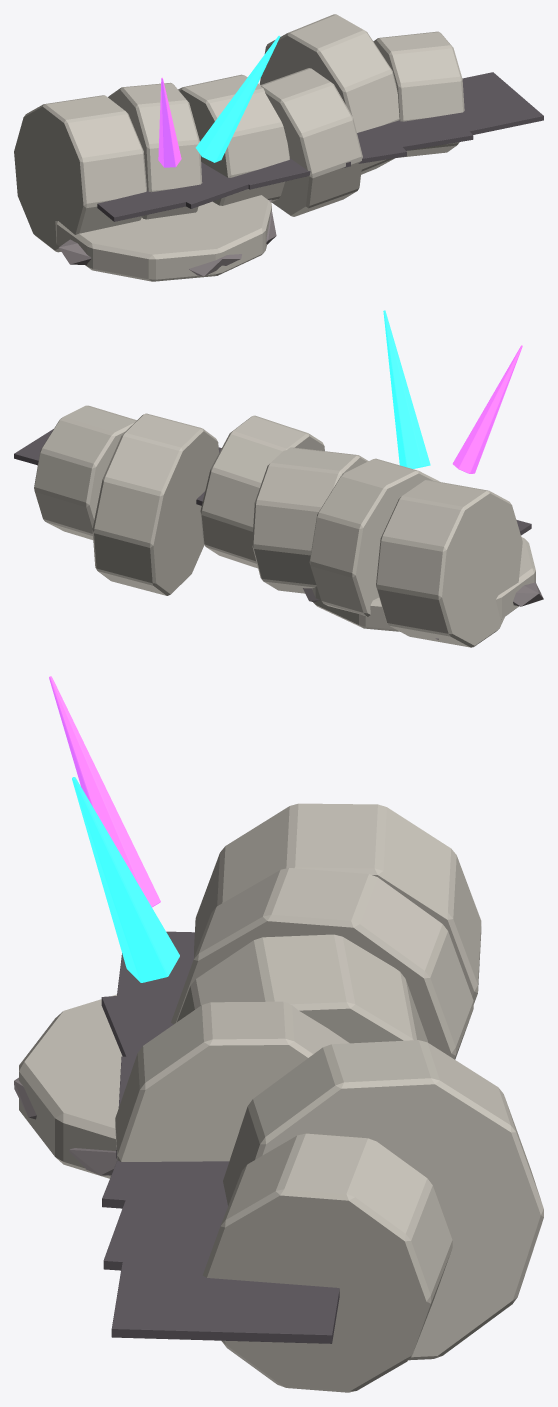
Rendered from runtime.glb.
3 views of the same model, one above another, from view 1: azimuth 30°, elevation 25°; view 2: azimuth 150°, elevation 25°; view 3: azimuth 270°, elevation 25° (orthographic). The views are drawn at different scales.
Visible parts, largest first — view 1: crystal-ruins-damaged-column-v09_fallen_00_nocol, crystal-ruins-damaged-column-v09_base_nocol, crystal-ruins-damaged-column-v09_fallen_03_nocol, crystal-ruins-damaged-column-v09_fallen_04_nocol, crystal-ruins-damaged-column-v09_fallen_02_nocol, crystal-ruins-damaged-column-v09_fallen_05_nocol, crystal-ruins-damaged-column-v09_fallen_01_nocol, crystal-ruins-damaged-column-v09_fracture_05_nocol, crystal-ruins-damaged-column-v09_crystal_00_nocol, crystal-ruins-damaged-column-v09_fracture_04_nocol, crystal-ruins-damaged-column-v09_fracture_00_nocol, crystal-ruins-damaged-column-v09_fracture_01_nocol (+5 smaller); view 2: crystal-ruins-damaged-column-v09_fallen_00_nocol, crystal-ruins-damaged-column-v09_fallen_04_nocol, crystal-ruins-damaged-column-v09_fallen_01_nocol, crystal-ruins-damaged-column-v09_fallen_02_nocol, crystal-ruins-damaged-column-v09_fallen_03_nocol, crystal-ruins-damaged-column-v09_fallen_05_nocol, crystal-ruins-damaged-column-v09_crystal_00_nocol, crystal-ruins-damaged-column-v09_base_nocol, crystal-ruins-damaged-column-v09_crystal_01_nocol, crystal-ruins-damaged-column-v09_fracture_05_nocol, crystal-ruins-damaged-column-v09_deposit_04_nocol; view 3: crystal-ruins-damaged-column-v09_fallen_05_nocol, crystal-ruins-damaged-column-v09_fallen_04_nocol, crystal-ruins-damaged-column-v09_fallen_03_nocol, crystal-ruins-damaged-column-v09_fallen_01_nocol, crystal-ruins-damaged-column-v09_fallen_00_nocol, crystal-ruins-damaged-column-v09_fallen_02_nocol, crystal-ruins-damaged-column-v09_fracture_05_nocol, crystal-ruins-damaged-column-v09_base_nocol, crystal-ruins-damaged-column-v09_fracture_04_nocol, crystal-ruins-damaged-column-v09_crystal_00_nocol, crystal-ruins-damaged-column-v09_fracture_00_nocol, crystal-ruins-damaged-column-v09_crystal_01_nocol (+3 smaller).
Part boxes in pixels (bbox=[...]): crystal-ruins-damaged-column-v09_fallen_00_nocol: bbox=[14, 95, 146, 252]; crystal-ruins-damaged-column-v09_base_nocol: bbox=[55, 195, 271, 281]; crystal-ruins-damaged-column-v09_fallen_03_nocol: bbox=[260, 68, 362, 216]; crystal-ruins-damaged-column-v09_fallen_04_nocol: bbox=[259, 14, 399, 174]; crystal-ruins-damaged-column-v09_fallen_02_nocol: bbox=[178, 74, 289, 205]; crystal-ruins-damaged-column-v09_fallen_05_nocol: bbox=[373, 31, 464, 157]; crystal-ruins-damaged-column-v09_fallen_01_nocol: bbox=[108, 82, 202, 219]; crystal-ruins-damaged-column-v09_fracture_05_nocol: bbox=[420, 72, 543, 137]; crystal-ruins-damaged-column-v09_crystal_00_nocol: bbox=[195, 35, 280, 162]; crystal-ruins-damaged-column-v09_fracture_04_nocol: bbox=[357, 119, 473, 152]; crystal-ruins-damaged-column-v09_fracture_00_nocol: bbox=[97, 185, 197, 221]; crystal-ruins-damaged-column-v09_fracture_01_nocol: bbox=[164, 162, 248, 208]; crystal-ruins-damaged-column-v09_fallen_00_nocol: bbox=[376, 480, 522, 647]; crystal-ruins-damaged-column-v09_fallen_04_nocol: bbox=[92, 413, 218, 595]; crystal-ruins-damaged-column-v09_fallen_01_nocol: bbox=[309, 458, 439, 616]; crystal-ruins-damaged-column-v09_fallen_02_nocol: bbox=[252, 447, 368, 593]; crystal-ruins-damaged-column-v09_fallen_03_nocol: bbox=[200, 415, 324, 568]; crystal-ruins-damaged-column-v09_fallen_05_nocol: bbox=[34, 405, 136, 539]; crystal-ruins-damaged-column-v09_crystal_00_nocol: bbox=[383, 310, 430, 468]; crystal-ruins-damaged-column-v09_base_nocol: bbox=[312, 537, 535, 631]; crystal-ruins-damaged-column-v09_crystal_01_nocol: bbox=[452, 345, 522, 473]; crystal-ruins-damaged-column-v09_fracture_05_nocol: bbox=[14, 429, 53, 465]; crystal-ruins-damaged-column-v09_deposit_04_nocol: bbox=[513, 582, 543, 606]; crystal-ruins-damaged-column-v09_fallen_05_nocol: bbox=[202, 1133, 452, 1392]; crystal-ruins-damaged-column-v09_fallen_04_nocol: bbox=[223, 1040, 543, 1360]; crystal-ruins-damaged-column-v09_fallen_03_nocol: bbox=[115, 1001, 349, 1161]; crystal-ruins-damaged-column-v09_fallen_01_nocol: bbox=[171, 868, 473, 1059]; crystal-ruins-damaged-column-v09_fallen_00_nocol: bbox=[194, 803, 481, 1004]; crystal-ruins-damaged-column-v09_fallen_02_nocol: bbox=[177, 934, 427, 1043]; crystal-ruins-damaged-column-v09_fracture_05_nocol: bbox=[111, 1262, 339, 1343]; crystal-ruins-damaged-column-v09_base_nocol: bbox=[19, 994, 122, 1178]; crystal-ruins-damaged-column-v09_fracture_04_nocol: bbox=[103, 1168, 227, 1270]; crystal-ruins-damaged-column-v09_crystal_00_nocol: bbox=[72, 777, 179, 982]; crystal-ruins-damaged-column-v09_fracture_00_nocol: bbox=[113, 931, 194, 1024]; crystal-ruins-damaged-column-v09_crystal_01_nocol: bbox=[49, 676, 160, 907].
Size of the model in its own units: 8.43 by 3.98 by 4.35.
